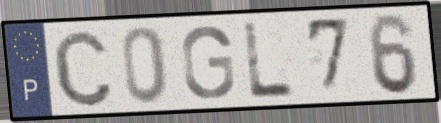0: (119, 23, 171, 107)
6: (366, 10, 421, 97)
7: (305, 16, 354, 98)
C: (50, 26, 116, 109)
G: (178, 23, 237, 101)
L: (242, 19, 299, 102)
